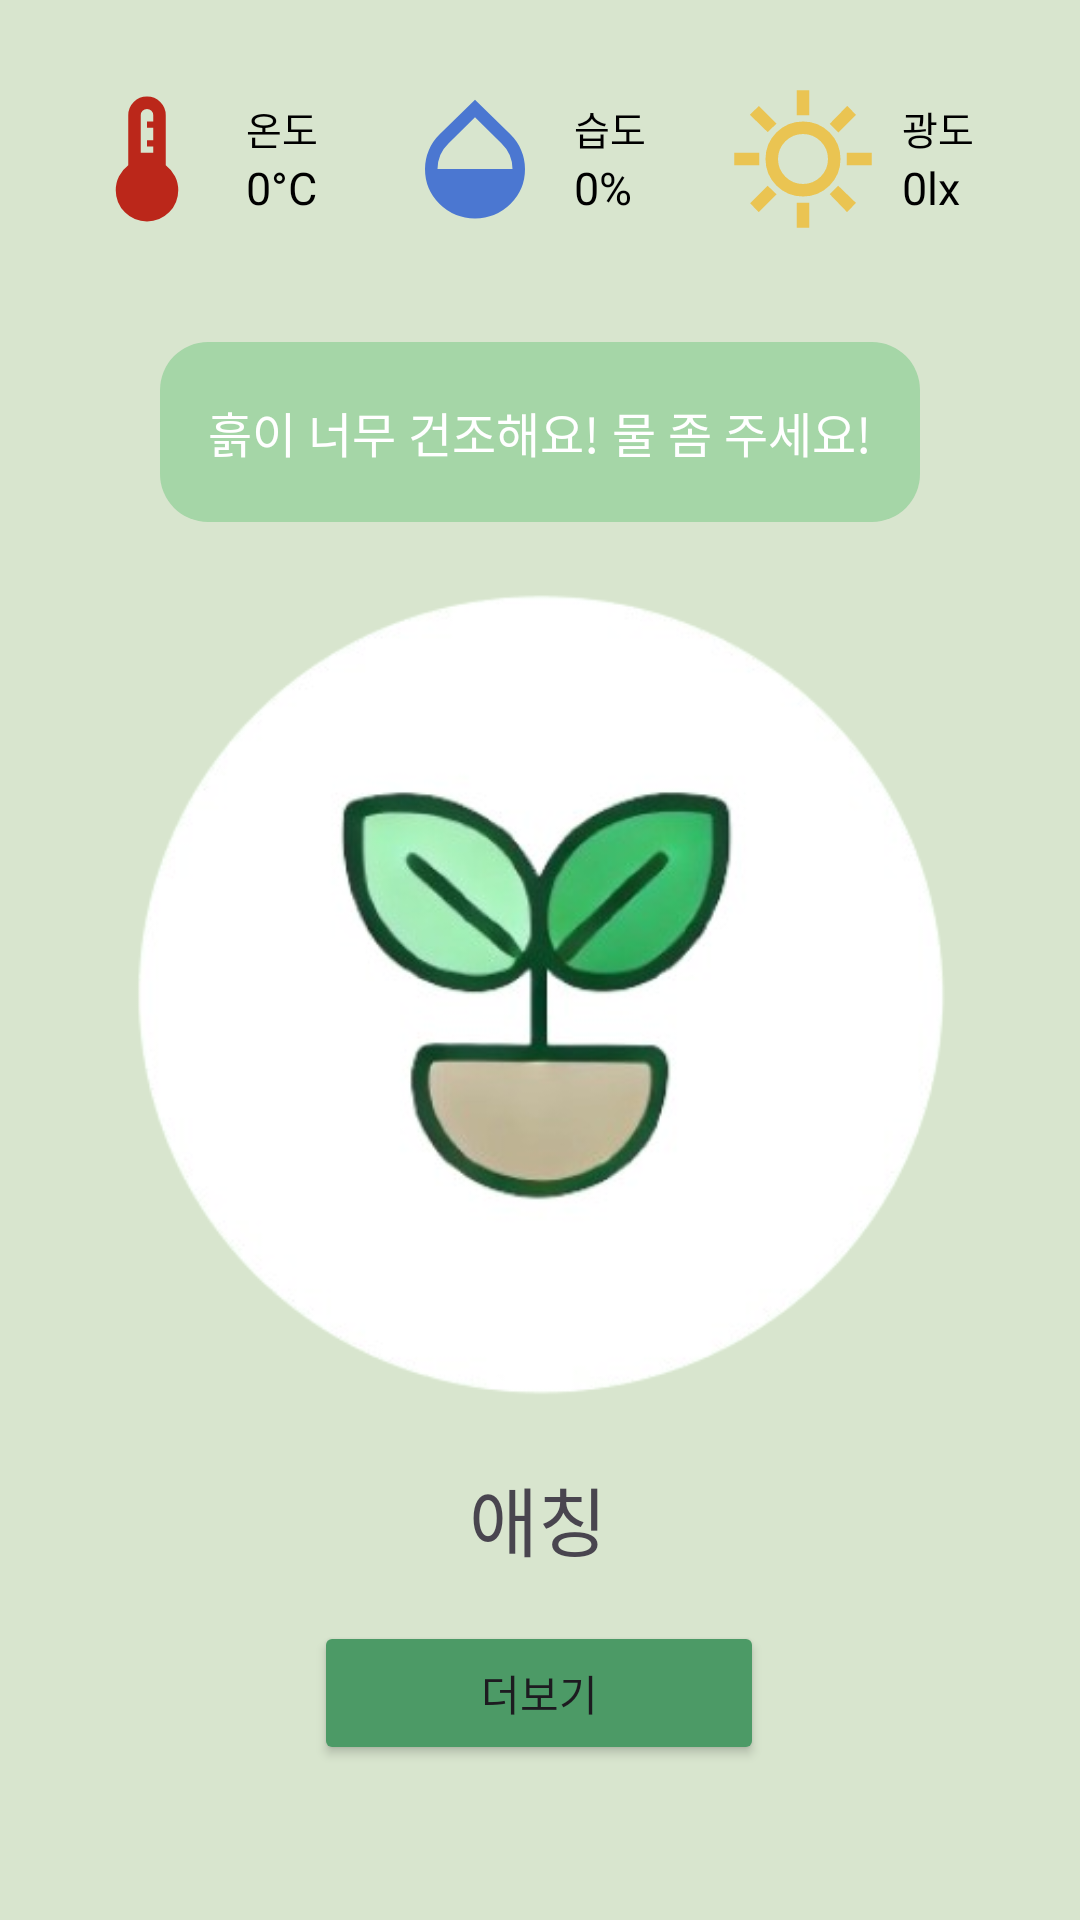

Screen size 1080px x 1920px. Icon name, then its center in pixels as (x,y):
humidity: (475,159)
temperature: (147,159)
